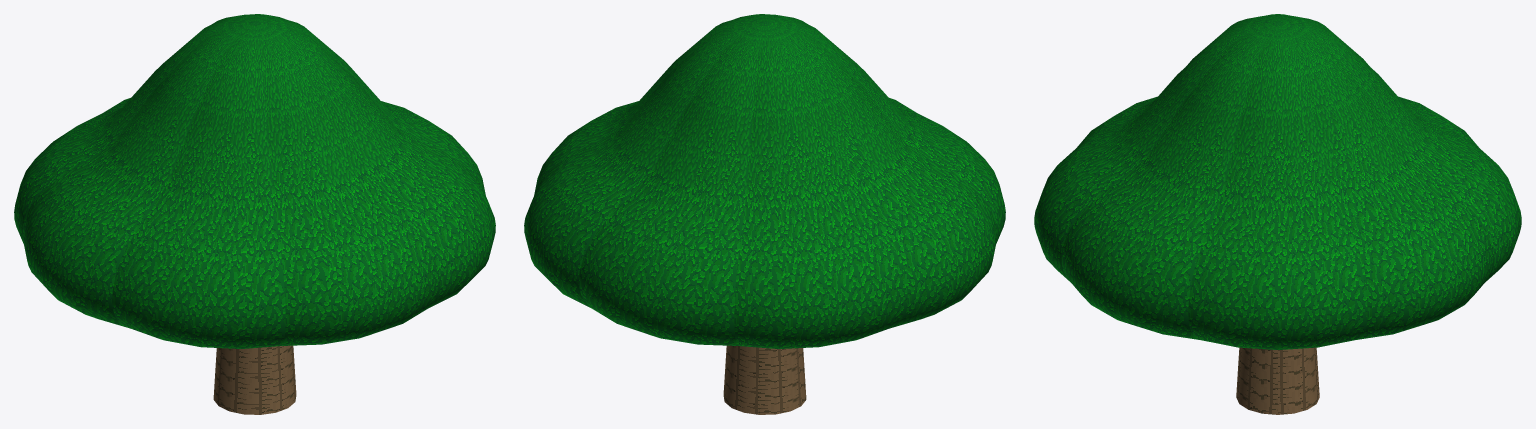
File: BigTree.obj
3 renders of one model, left to right at view 1: azimuth 30°, elevation 25°; view 2: azimuth 150°, elevation 25°; view 3: azimuth 270°, elevation 25°, orthographic.
Parts seen in each view (by area): view 1: Leaves.001_Leaves.008, Trunk.013_Trunk.009; view 2: Leaves.001_Leaves.008, Trunk.013_Trunk.009; view 3: Leaves.001_Leaves.008, Trunk.013_Trunk.009.
Boxes of the visible parts, bbox=[...] form: Leaves.001_Leaves.008: bbox=[14, 14, 495, 348]; Trunk.013_Trunk.009: bbox=[213, 345, 296, 414]; Leaves.001_Leaves.008: bbox=[524, 14, 1005, 348]; Trunk.013_Trunk.009: bbox=[723, 345, 806, 414]; Leaves.001_Leaves.008: bbox=[1034, 14, 1521, 349]; Trunk.013_Trunk.009: bbox=[1236, 347, 1319, 414].
Size of the model in its own units: 26.54 by 22.5 by 26.54.
2 materials, 2 textured.
